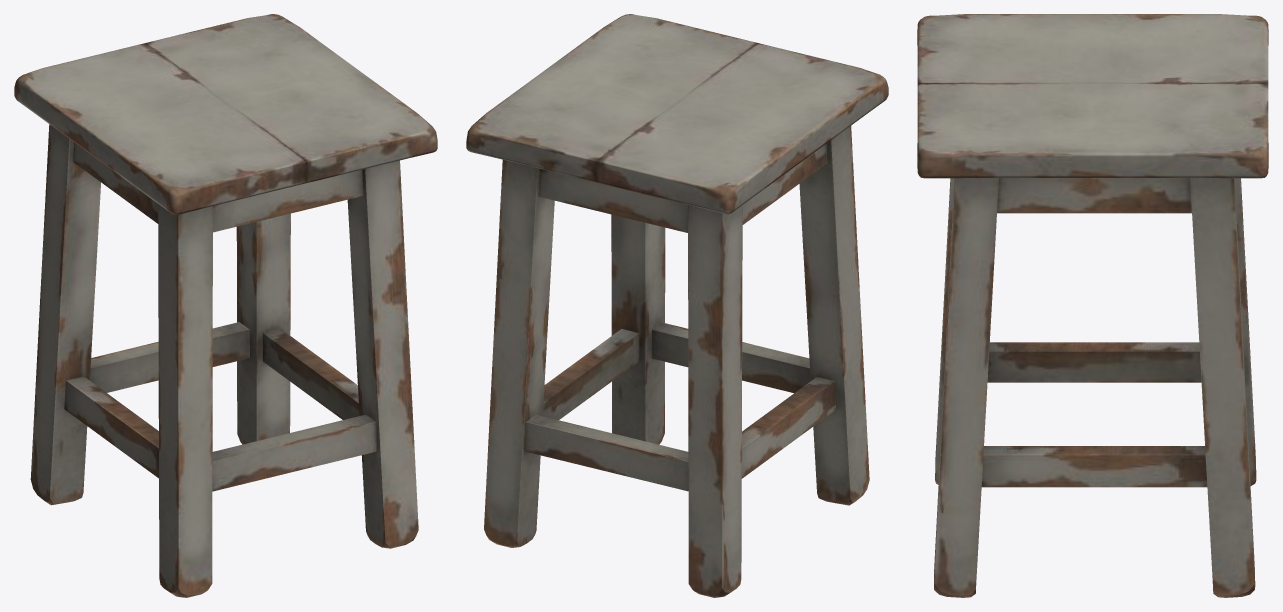
The model's file is stool_wood.glb.
3 views of the same model, side by side, from view 1: azimuth 30°, elevation 25°; view 2: azimuth 150°, elevation 25°; view 3: azimuth 270°, elevation 25° (orthographic). The views are drawn at different scales.
Visible parts, largest first — view 1: painted_wooden_stool; view 2: painted_wooden_stool; view 3: painted_wooden_stool.
Part boxes in pixels (<box>): painted_wooden_stool: <box>14,14,437,597</box>; painted_wooden_stool: <box>466,14,888,597</box>; painted_wooden_stool: <box>917,14,1268,597</box>.
Bounding box in the file's own units: 0.3848 × 0.5789 × 0.4061.
Materials: 1 (1 with a texture image).
